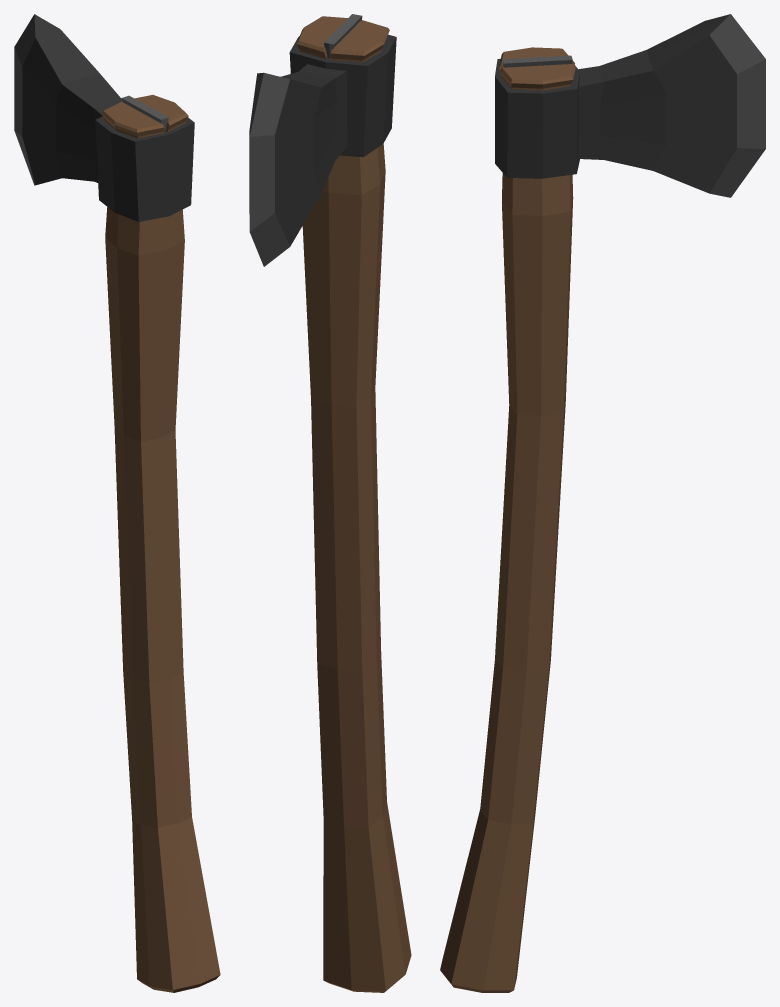
File: iron_axe.glb
3 renders of one model, left to right at view 1: azimuth 30°, elevation 25°; view 2: azimuth 150°, elevation 25°; view 3: azimuth 270°, elevation 25°, orthographic. The views are drawn at different scales.
Visible parts, largest first — view 1: axe; view 2: axe; view 3: axe.
Boxes of the visible parts, left/top/right/bottom form: axe: left=14, top=14, right=220, bottom=992; axe: left=249, top=14, right=411, bottom=992; axe: left=440, top=14, right=765, bottom=992.
Size of the model in its own units: 0.0981 by 1.12 by 0.3468.
1 material, 1 textured.
